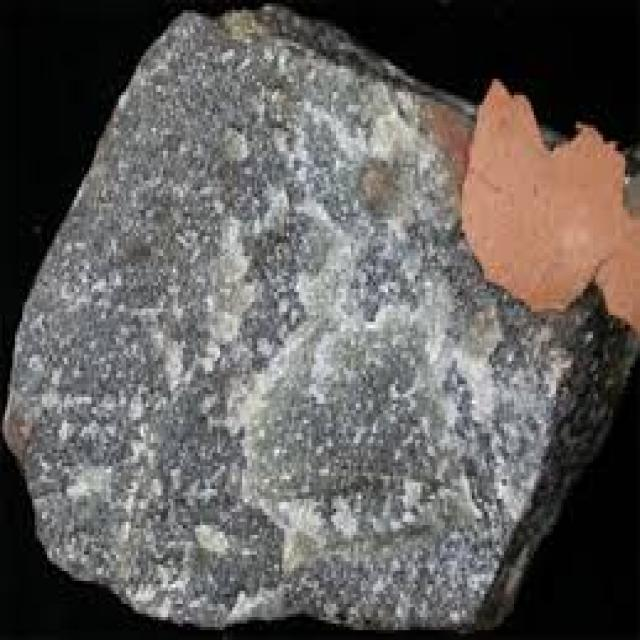Metamorphic: (15, 10, 640, 633)
